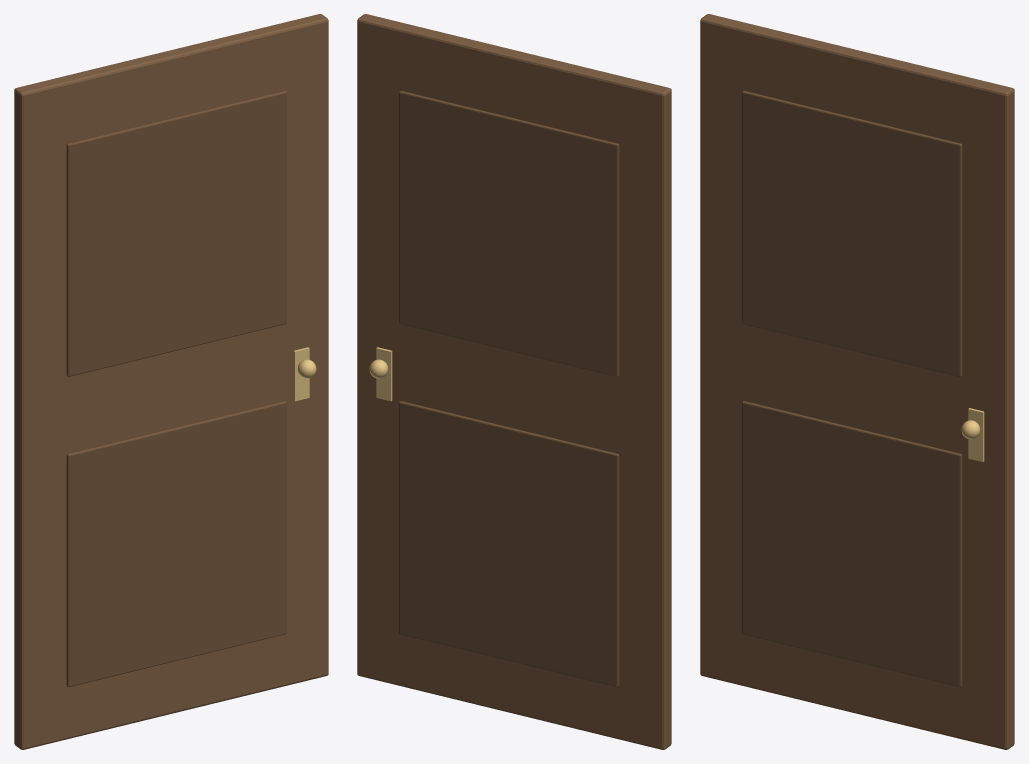
File: Door.glb
3 views of the same model, side by side, from view 1: azimuth 30°, elevation 25°; view 2: azimuth 150°, elevation 25°; view 3: azimuth 330°, elevation 25° (orthographic).
Parts seen in each view (by area): view 1: Door; view 2: Door; view 3: Door.
Part boxes in pixels (left/top/right/bottom): Door: left=14, top=14, right=328, bottom=749; Door: left=357, top=14, right=671, bottom=749; Door: left=700, top=14, right=1014, bottom=749.
Bounding box in the file's own units: 1.04 × 2.12 × 0.186.
